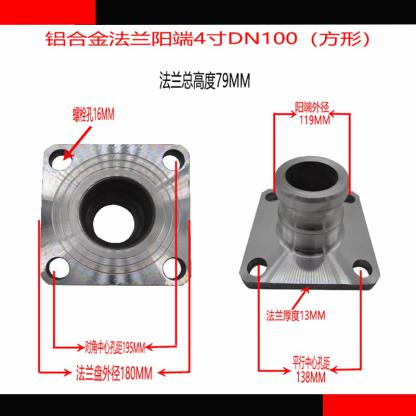FOD: (31, 139, 203, 292), (232, 153, 384, 293)
